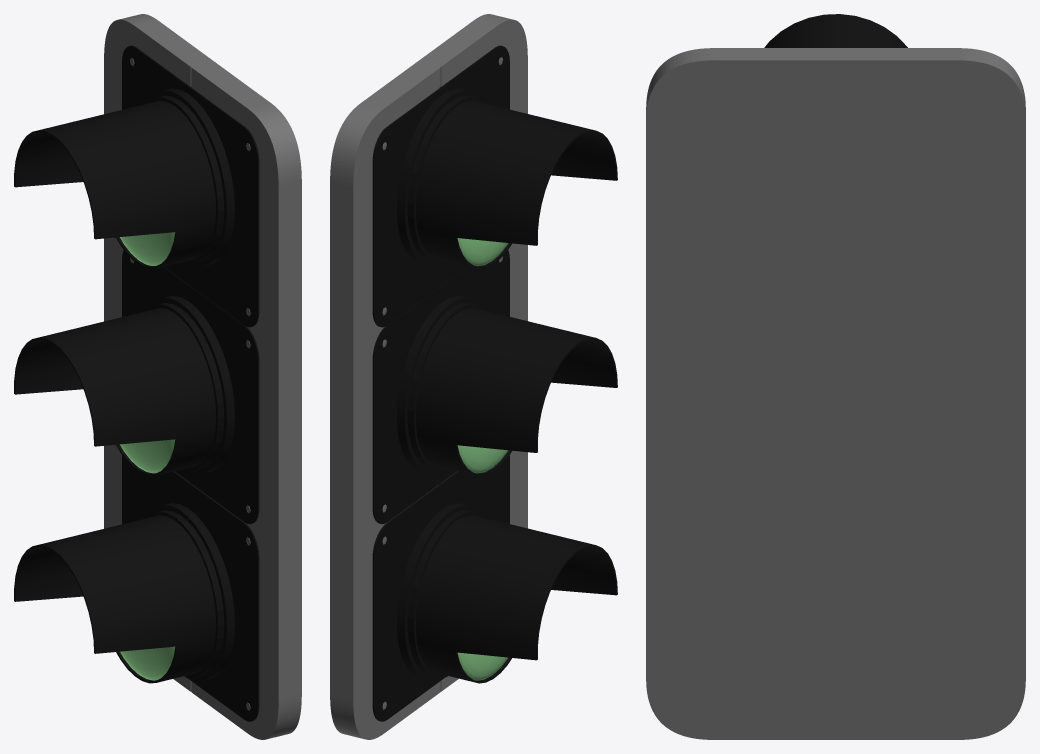
Rendered from TrafficLightsUk.obj.
3 renders of one model, left to right at view 1: azimuth 30°, elevation 25°; view 2: azimuth 150°, elevation 25°; view 3: azimuth 270°, elevation 25°, orthographic. The views are drawn at different scales.
Parts seen in each view (by area): view 1: Box001, Cylinder004, Cylinder003, Cylinder002, Rectangle001, Rectangle003, Rectangle002, Sphere001, Sphere002, Sphere003; view 2: Box001, Cylinder002, Cylinder003, Cylinder004, Rectangle001, Rectangle003, Rectangle002, Sphere001, Sphere002, Sphere003; view 3: Box001, Cylinder002.
Part boxes in pixels (bbox=[...]): Box001: bbox=[104, 14, 301, 739]; Cylinder004: bbox=[14, 503, 234, 683]; Cylinder003: bbox=[14, 295, 234, 475]; Cylinder002: bbox=[14, 88, 234, 268]; Rectangle001: bbox=[122, 45, 259, 327]; Rectangle003: bbox=[122, 455, 259, 721]; Rectangle002: bbox=[122, 250, 259, 524]; Sphere001: bbox=[120, 232, 175, 265]; Sphere002: bbox=[120, 439, 175, 473]; Sphere003: bbox=[120, 646, 175, 680]; Box001: bbox=[330, 14, 527, 739]; Cylinder002: bbox=[397, 88, 617, 268]; Cylinder003: bbox=[397, 296, 617, 476]; Cylinder004: bbox=[397, 503, 617, 683]; Rectangle001: bbox=[372, 45, 509, 327]; Rectangle003: bbox=[372, 455, 509, 721]; Rectangle002: bbox=[372, 250, 509, 524]; Sphere001: bbox=[457, 238, 508, 266]; Sphere002: bbox=[457, 445, 508, 473]; Sphere003: bbox=[457, 652, 507, 680]; Box001: bbox=[646, 48, 1025, 739]; Cylinder002: bbox=[764, 14, 907, 47].
Bounding box in the file's own units: 8.39 × 31.34 × 15.87.
